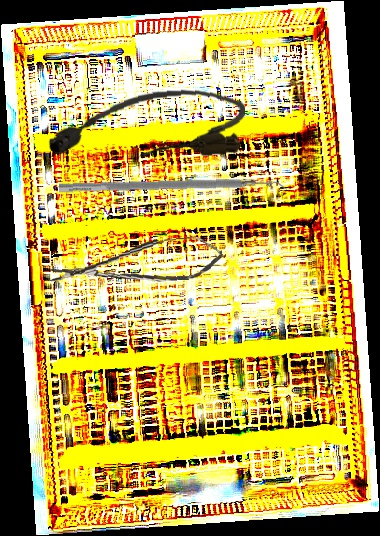Cannula: (44, 85, 249, 167)
Micro Scissor: (48, 234, 225, 292)
Spatula Surgical: (58, 175, 288, 202)
